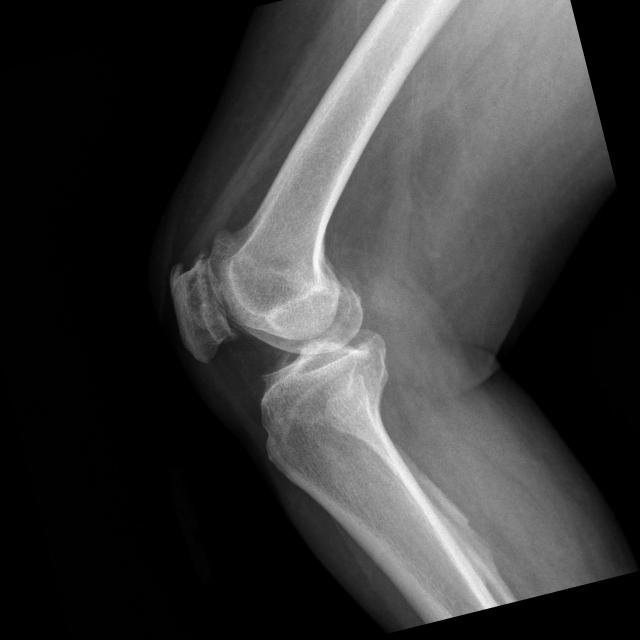Knee: (162, 214, 406, 444)
